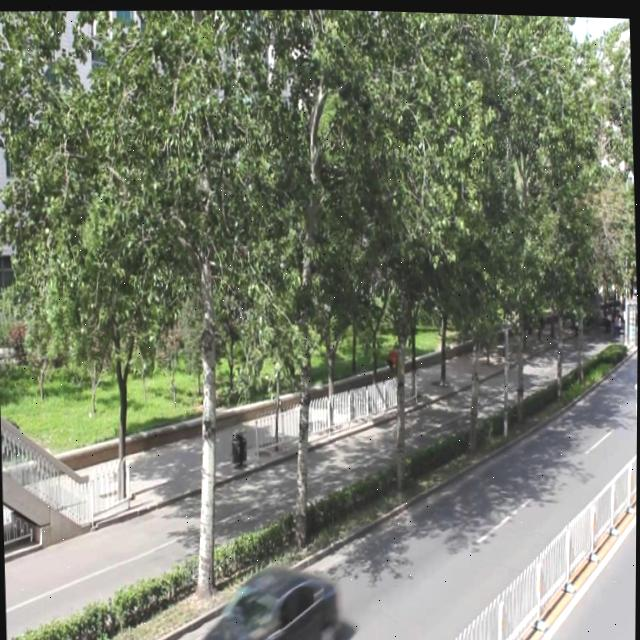car: (209, 557, 338, 640)
